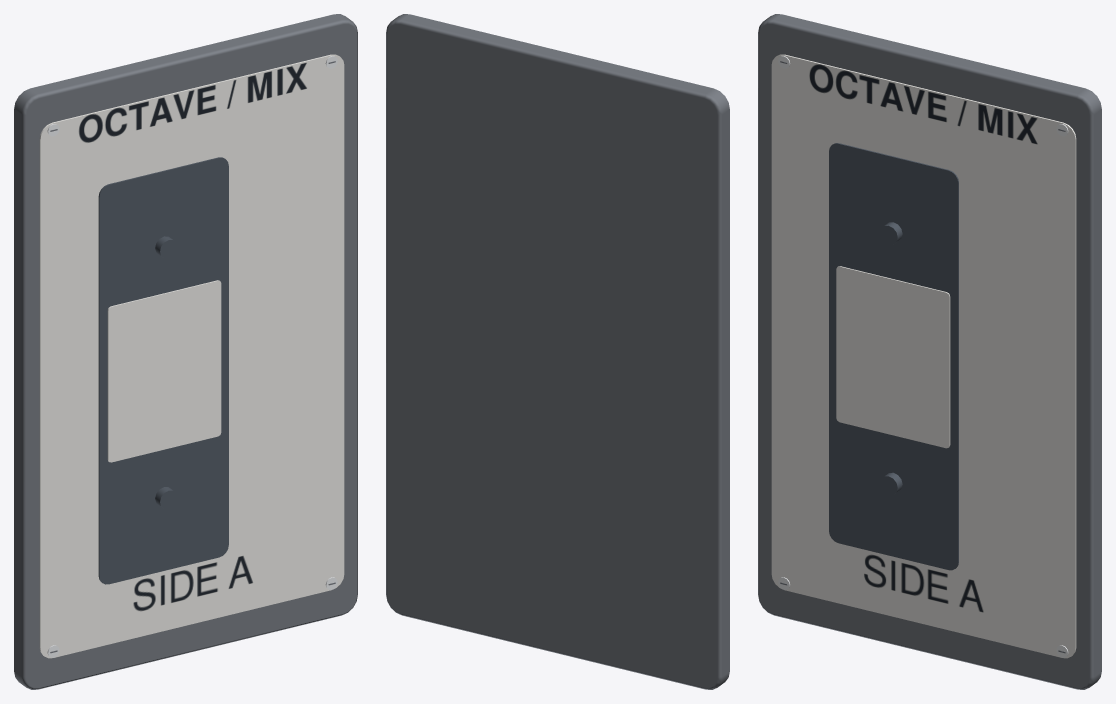
File: cassette.glb
The picture shows the model from 3 angles, left to right: view 1: azimuth 30°, elevation 25°; view 2: azimuth 150°, elevation 25°; view 3: azimuth 330°, elevation 25°; orthographic projection.
Parts seen in each view (by area): view 1: white, ink, dark, labels; view 2: ink; view 3: white, ink, dark, labels.
Part boxes in pixels (box(x1,y1,x2,y2)): white: box(39, 54, 344, 658); ink: box(14, 14, 357, 689); dark: box(98, 157, 228, 584); labels: box(79, 63, 306, 611); ink: box(386, 14, 729, 689); white: box(771, 54, 1076, 658); ink: box(758, 14, 1101, 689); dark: box(829, 143, 958, 570); labels: box(809, 64, 1037, 612).
Size of the model in its own units: 104 by 176 by 9.5.
Materials: 5 (1 with a texture image).
